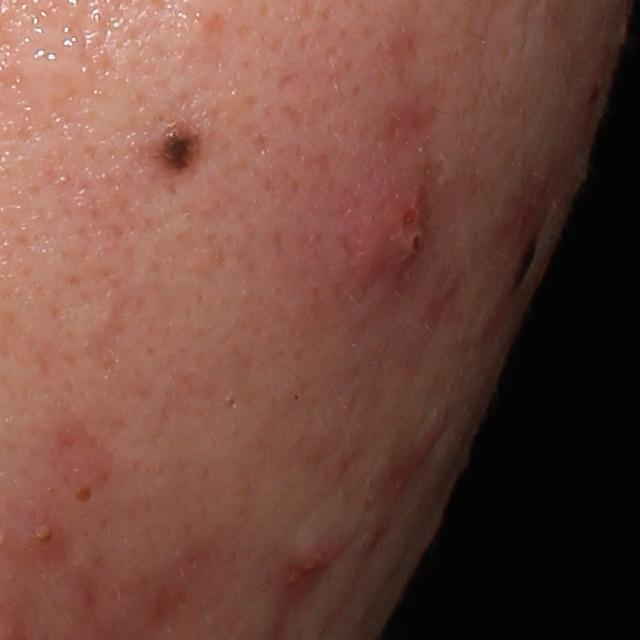comedo: (70, 482, 99, 508)
nevus: (154, 121, 203, 177), (511, 232, 538, 298)
nodule: (343, 153, 435, 297)
